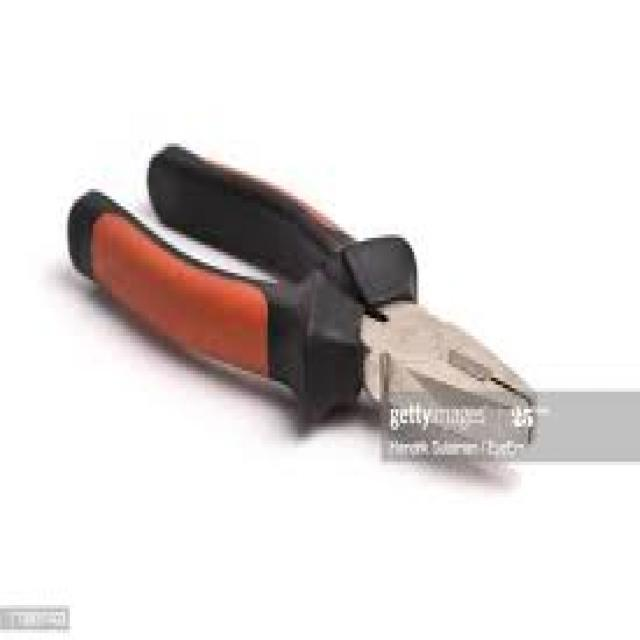pliers: (58, 135, 541, 468)
